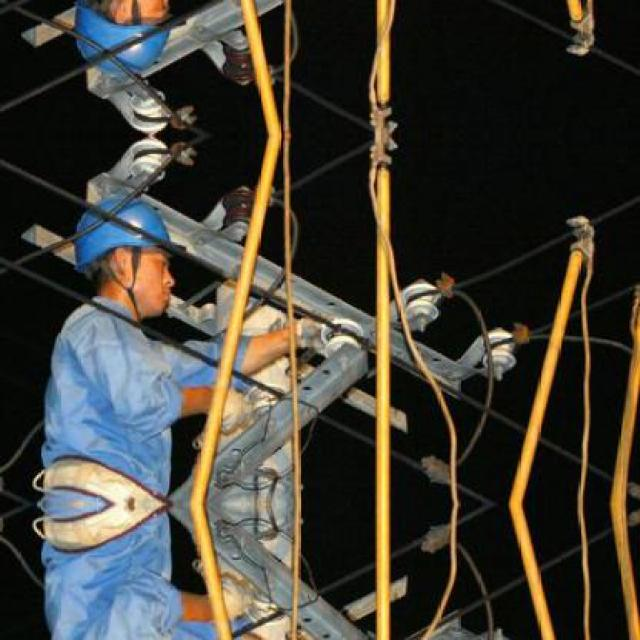helmet: (72, 198, 190, 316), (71, 0, 191, 74)
